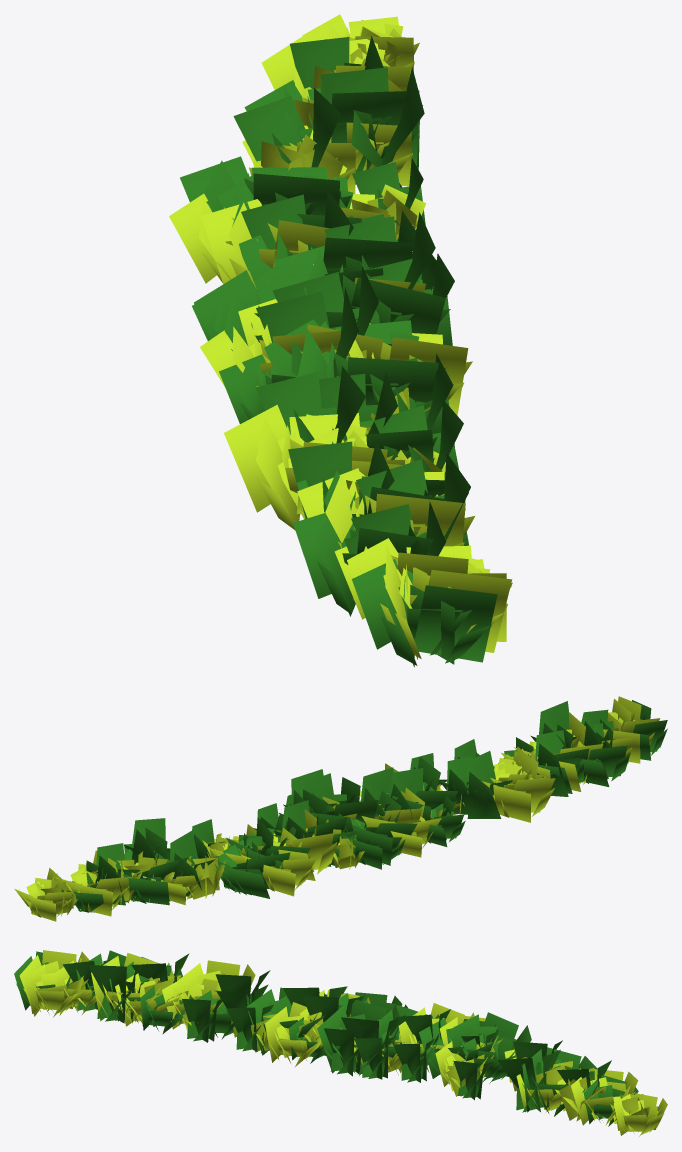
Rendered from Plants_Free8.fbx.
The picture shows the model from 3 angles, top to bottom: view 1: azimuth 30°, elevation 25°; view 2: azimuth 150°, elevation 25°; view 3: azimuth 270°, elevation 25°; orthographic projection. The views are drawn at different scales.
Parts seen in each view (by area): view 1: Grass_jumbled_Low_Spread.069, Grass_jumbled_Low_Dense_1.065, Grass_jumbled_Low_Spread.062, Grass_jumbled_Low_Dense_1.069, Grass_jumbled_Low_Spread.053, Grass_jumbled_Low_Dense_1.071, Grass_jumbled_Low_Spread.070, Grass_jumbled_Low_Spread.057, Grass_jumbled_Low_Dense_1.060, Grass_jumbled_Low_Spread.054, Grass_jumbled_Low_Spread_1.054, Grass_jumbled_Low_Spread_1.062 (+30 smaller); view 2: Grass_jumbled_Low_Dense_1.065, Grass_jumbled_Low_Spread.053, Grass_jumbled_Low_Spread.054, Grass_jumbled_Low_Spread_1.062, Grass_jumbled_Low_Spread.070, Grass_jumbled_Low_Dense_1.053, Grass_jumbled_Low_Spread.056, Grass_jumbled_Low_Dense_1.048, Grass_jumbled_Low_Spread.057, Grass_jumbled_Low_Dense_1.060, Grass_jumbled_Low_Dense_1.049, Grass_jumbled_Low_Spread_1.065 (+34 smaller); view 3: Grass_jumbled_Low_Dense_1.058, Grass_jumbled_Low_Spread.053, Grass_jumbled_Low_Spread_1.072, Grass_jumbled_Low_Spread_1.055, Grass_jumbled_Low_Spread.057, Grass_jumbled_Low_Dense_1.048, Grass_jumbled_Low_Dense_1.067, Grass_jumbled_Low_Dense_1.069, Grass_jumbled_Low_Dense_1.049, Grass_jumbled_Low_Spread.054, Grass_jumbled_Low_Spread_1.246, Grass_jumbled_Low_Spread.052 (+41 smaller).
Part boxes in pixels (x1,y1,x2,y2): Grass_jumbled_Low_Spread.069: (352, 559, 497, 667); Grass_jumbled_Low_Dense_1.065: (224, 404, 393, 530); Grass_jumbled_Low_Spread.062: (264, 319, 446, 408); Grass_jumbled_Low_Dense_1.069: (347, 538, 512, 659); Grass_jumbled_Low_Spread.053: (180, 156, 351, 215); Grass_jumbled_Low_Dense_1.071: (297, 468, 474, 548); Grass_jumbled_Low_Spread.070: (293, 513, 433, 616); Grass_jumbled_Low_Spread.057: (274, 245, 450, 334); Grass_jumbled_Low_Dense_1.060: (201, 199, 329, 288); Grass_jumbled_Low_Spread.054: (244, 80, 422, 172); Grass_jumbled_Low_Spread_1.054: (233, 88, 340, 167); Grass_jumbled_Low_Spread_1.062: (256, 366, 365, 443); Grass_jumbled_Low_Dense_1.065: (481, 749, 555, 822); Grass_jumbled_Low_Spread.053: (205, 818, 293, 898); Grass_jumbled_Low_Spread.054: (123, 827, 187, 905); Grass_jumbled_Low_Spread_1.062: (465, 751, 512, 818); Grass_jumbled_Low_Spread.070: (577, 719, 630, 786); Grass_jumbled_Low_Dense_1.053: (240, 828, 316, 896); Grass_jumbled_Low_Spread.056: (345, 791, 417, 865); Grass_jumbled_Low_Dense_1.048: (55, 850, 132, 916); Grass_jumbled_Low_Spread.057: (310, 777, 378, 835); Grass_jumbled_Low_Dense_1.060: (273, 809, 337, 880); Grass_jumbled_Low_Dense_1.049: (14, 867, 73, 921); Grass_jumbled_Low_Spread_1.065: (535, 730, 583, 796); Grass_jumbled_Low_Dense_1.058: (265, 1002, 322, 1066); Grass_jumbled_Low_Spread.053: (451, 1012, 531, 1082); Grass_jumbled_Low_Spread_1.072: (89, 963, 148, 1023); Grass_jumbled_Low_Spread_1.055: (497, 1049, 560, 1112); Grass_jumbled_Low_Spread.057: (317, 999, 399, 1075); Grass_jumbled_Low_Dense_1.048: (571, 1069, 638, 1125); Grass_jumbled_Low_Dense_1.067: (26, 964, 82, 1017); Grass_jumbled_Low_Dense_1.069: (19, 950, 89, 1016); Grass_jumbled_Low_Dense_1.049: (613, 1093, 667, 1136); Grass_jumbled_Low_Spread.054: (522, 1047, 597, 1116); Grass_jumbled_Low_Spread_1.246: (324, 1028, 362, 1076); Grass_jumbled_Low_Spread.052: (419, 1018, 498, 1078).
Size of the model in its own units: 276 by 53.01 by 494.
